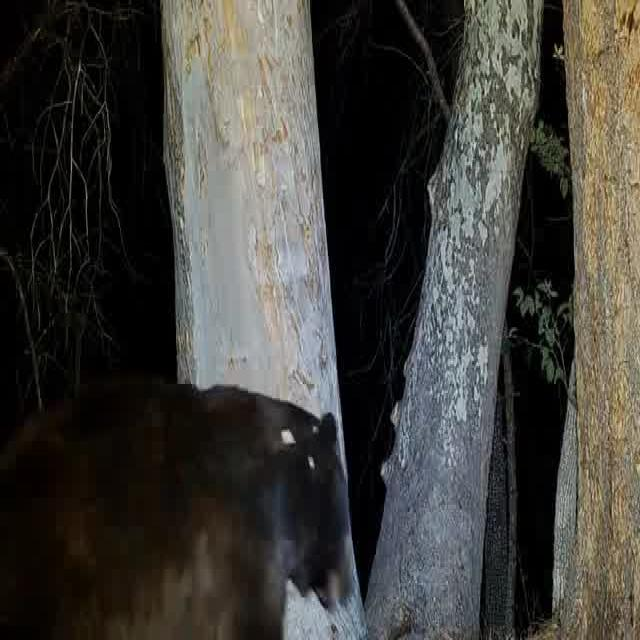bear face: (0, 381, 357, 640)
